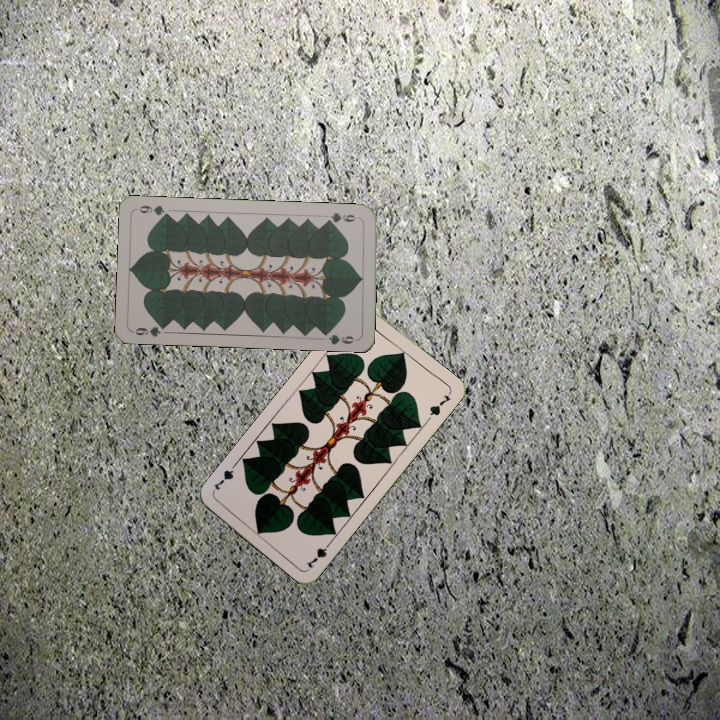G7: (302, 537, 335, 571)
G9: (129, 320, 170, 339), (322, 209, 363, 226)
